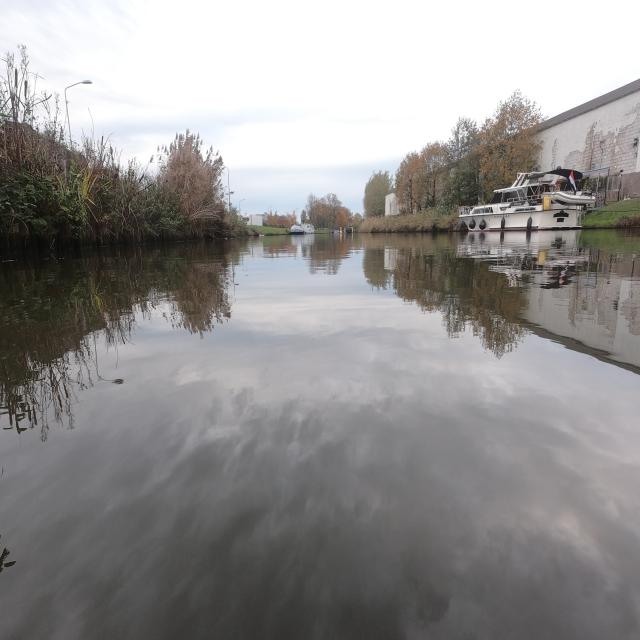boat: (459, 168, 596, 231), (290, 224, 314, 234)
grass: (581, 197, 639, 226)
reed: (0, 54, 239, 240), (358, 206, 458, 231)
sky: (1, 2, 638, 213)
tree: (479, 90, 541, 202)
water: (0, 233, 639, 639)
